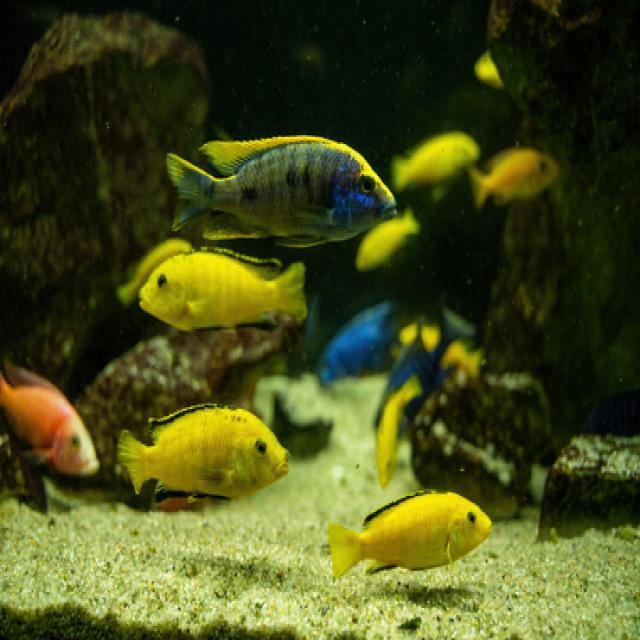YellowCichlid: (164, 124, 398, 242), (324, 483, 516, 614), (112, 398, 300, 520), (132, 244, 321, 348), (463, 136, 572, 212), (402, 108, 483, 175), (482, 46, 511, 106)
